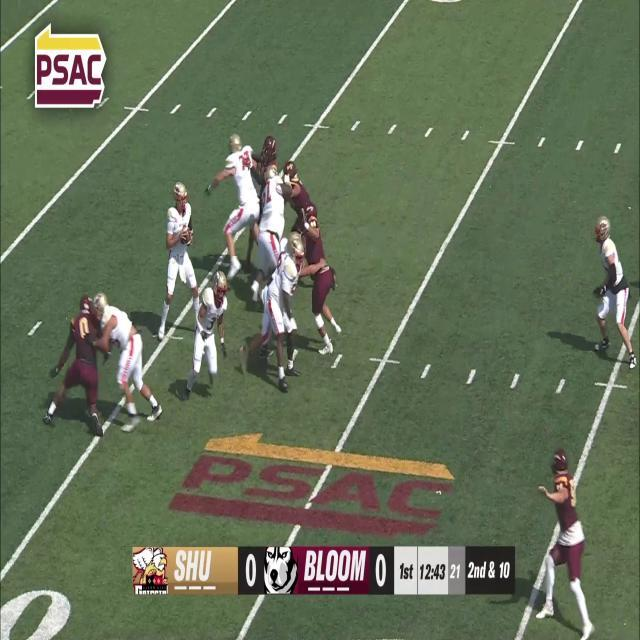football: (181, 222, 192, 247)
